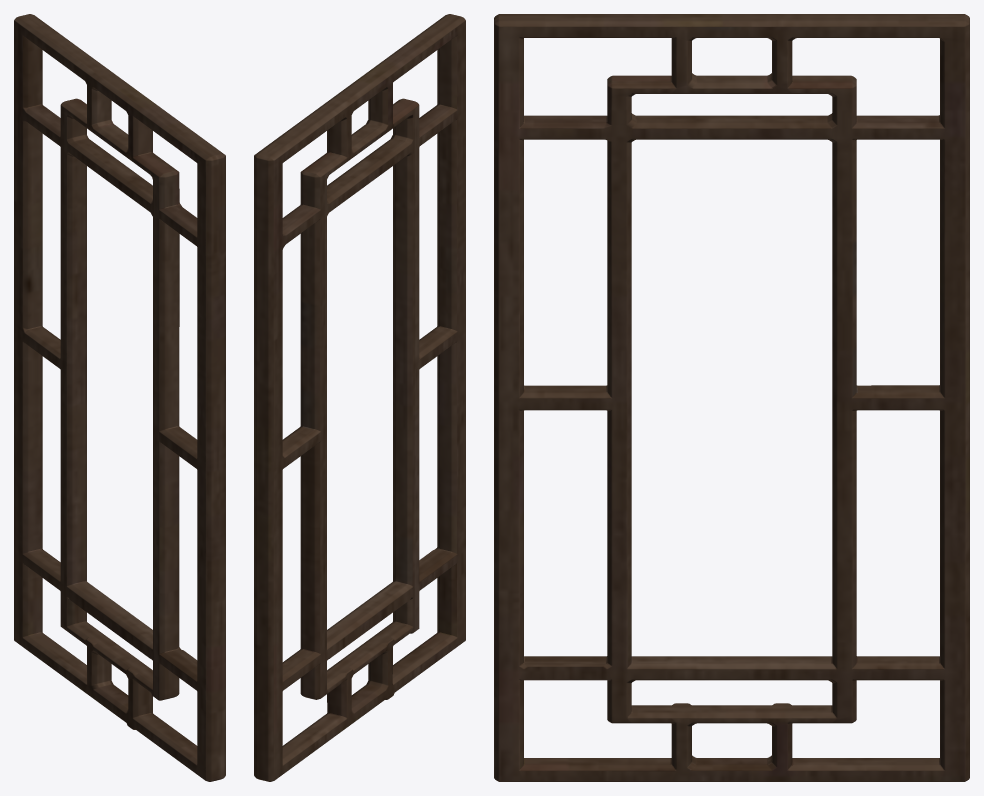
File: Window.fbx
3 views of the same model, side by side, from view 1: azimuth 30°, elevation 25°; view 2: azimuth 150°, elevation 25°; view 3: azimuth 270°, elevation 25° (orthographic). The views are drawn at different scales.
Parts seen in each view (by area): view 1: window19; view 2: window19; view 3: window19.
Boxes of the visible parts, x1,y1,x2,y2 form: window19: [14, 14, 225, 781]; window19: [254, 14, 465, 781]; window19: [494, 14, 969, 781].
Bounding box in the file's own units: 12.8 × 369 × 209.
